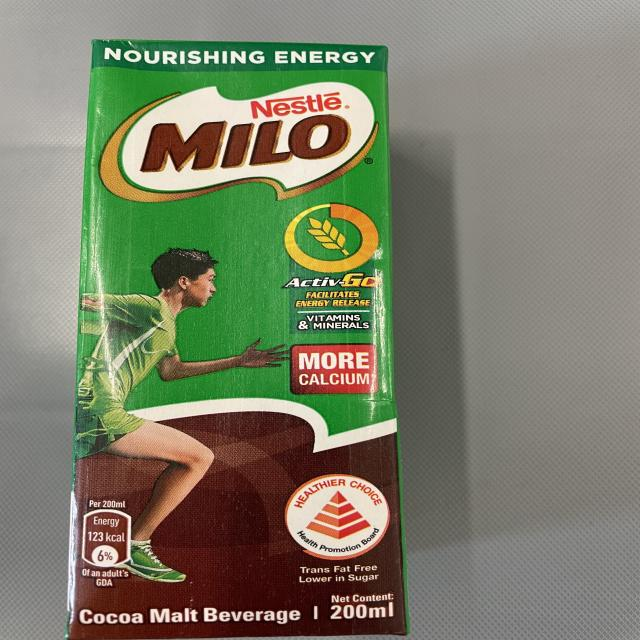object_name: (89, 43, 399, 631)
